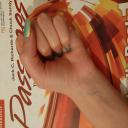Fist: (15, 12, 96, 96)
